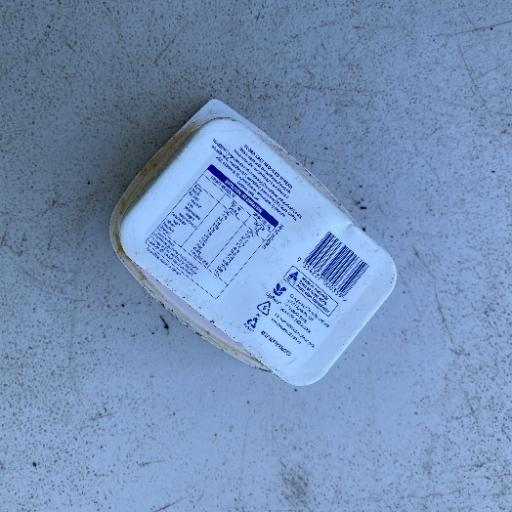Plastic: (106, 97, 398, 389)
